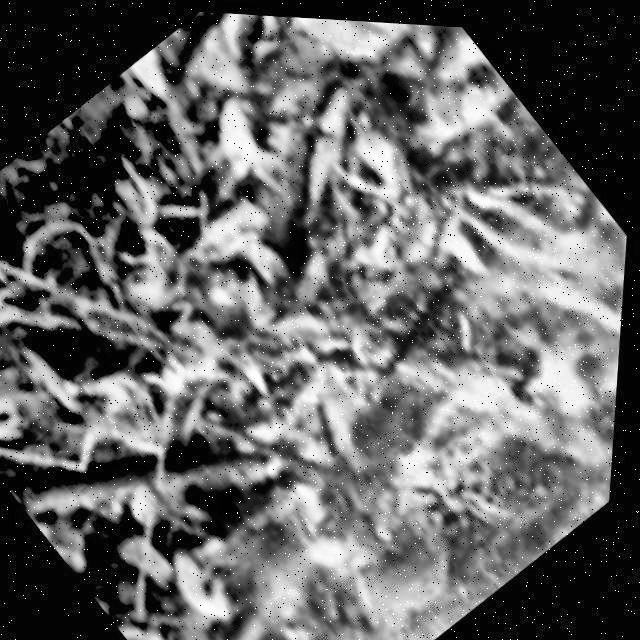Fire: (167, 95, 635, 640)
